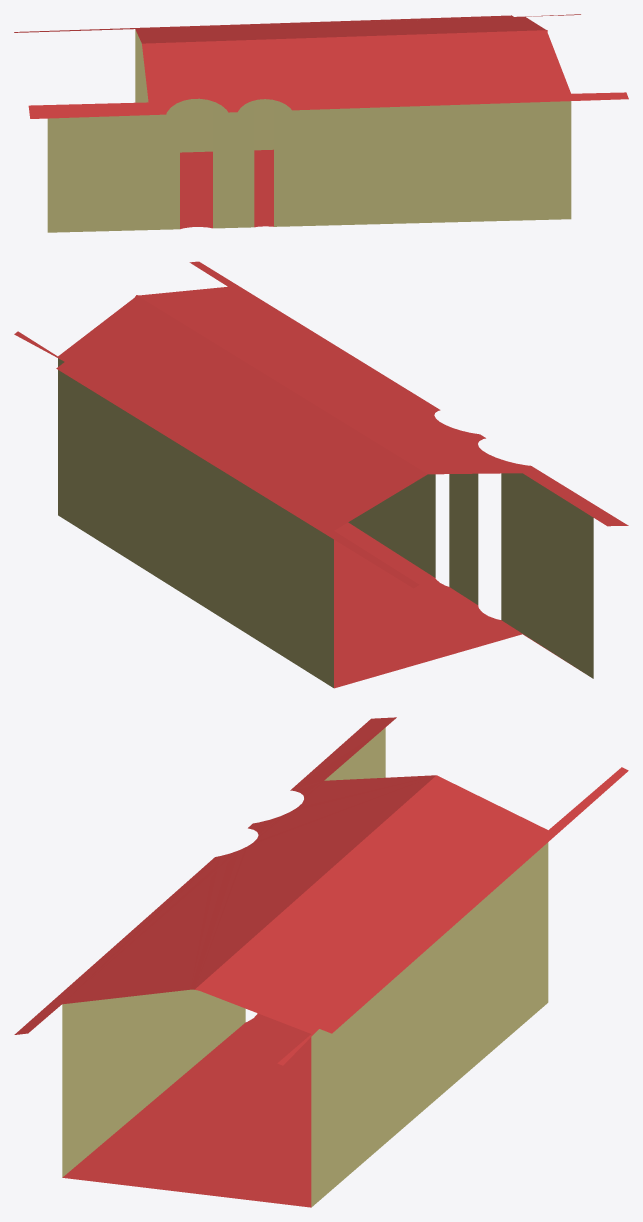
3 renders of one model, top to bottom at view 1: azimuth 30°, elevation 25°; view 2: azimuth 150°, elevation 25°; view 3: azimuth 270°, elevation 25°, orthographic. The views are drawn at different scales.
Size of the model in its own units: 27.33 by 20.33 by 7.46.
